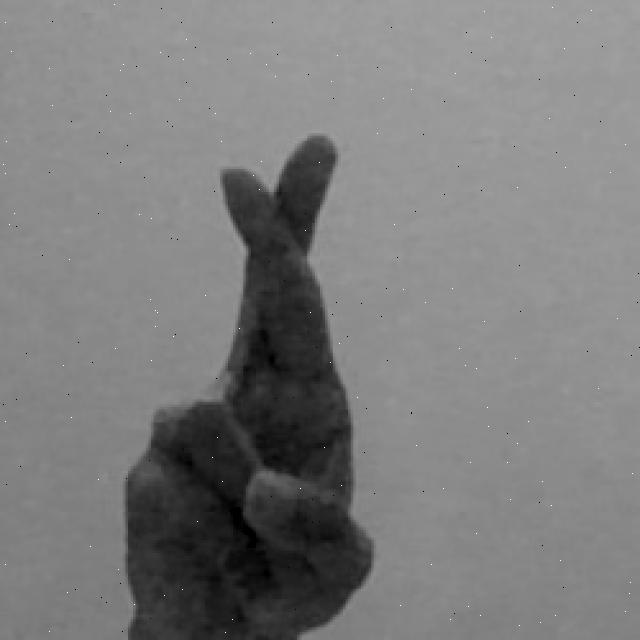R: (121, 130, 381, 640)
